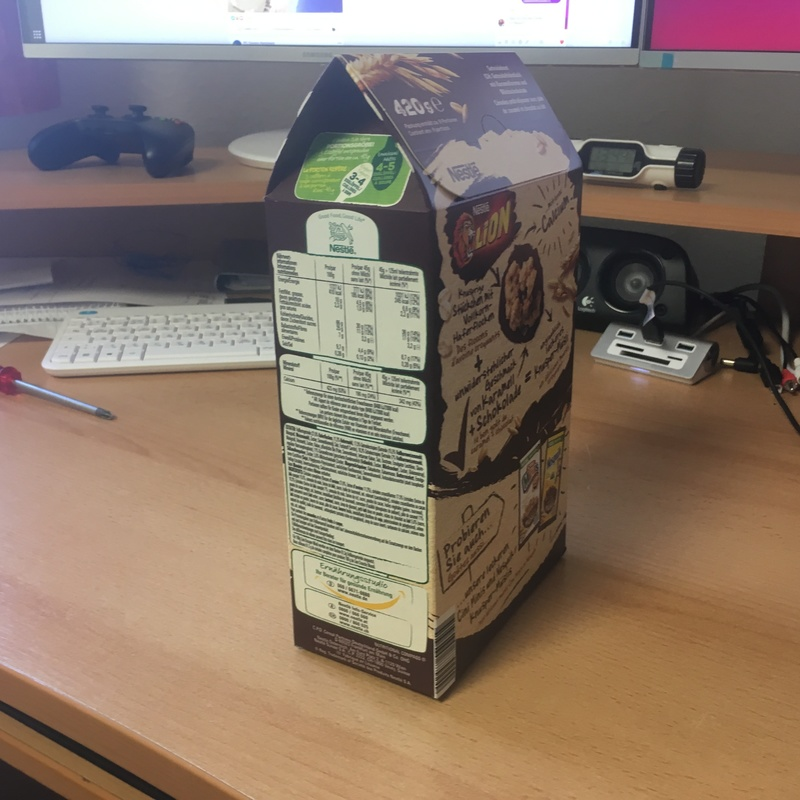cereals: (266, 50, 585, 704)
